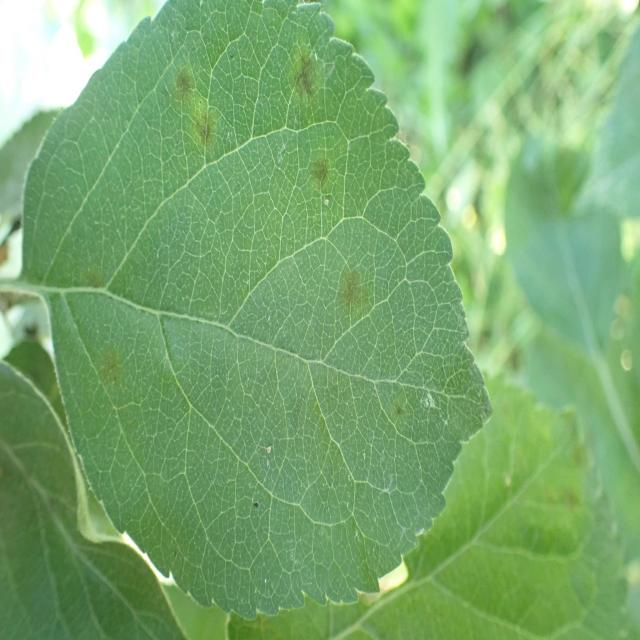scab: (280, 24, 394, 383), (73, 230, 144, 434), (148, 47, 236, 203)
